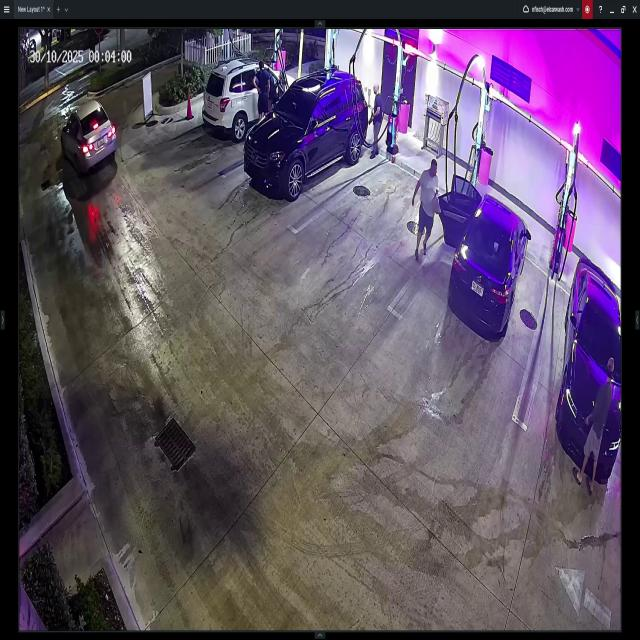Car: (246, 73, 370, 198), (439, 172, 531, 334), (554, 258, 621, 478), (202, 60, 296, 136), (60, 100, 119, 171)
